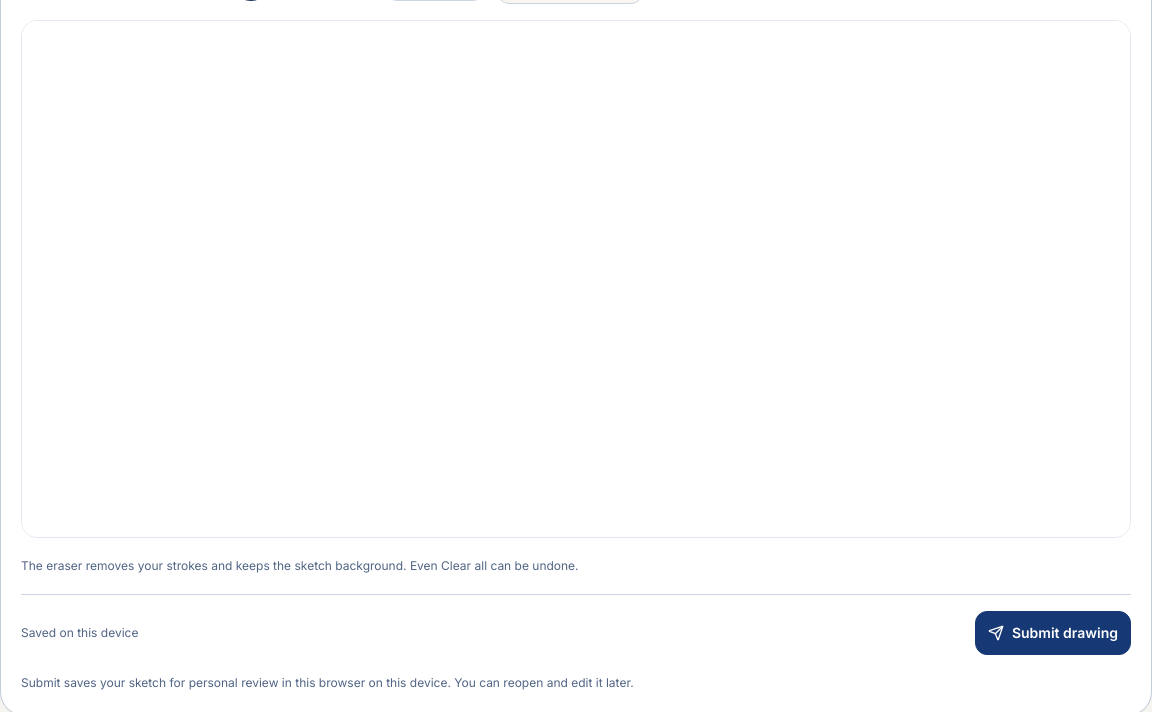
Scenario: sketch paper interaction › rejects a fully erased drawing and keeps a failed submission editable
Earlier steps of the test are not shown.
Later steps or results of the test are not shown.
(page scrolled)
Click the button "Submit drawing" at (1053, 633), box [975, 611, 1131, 655]
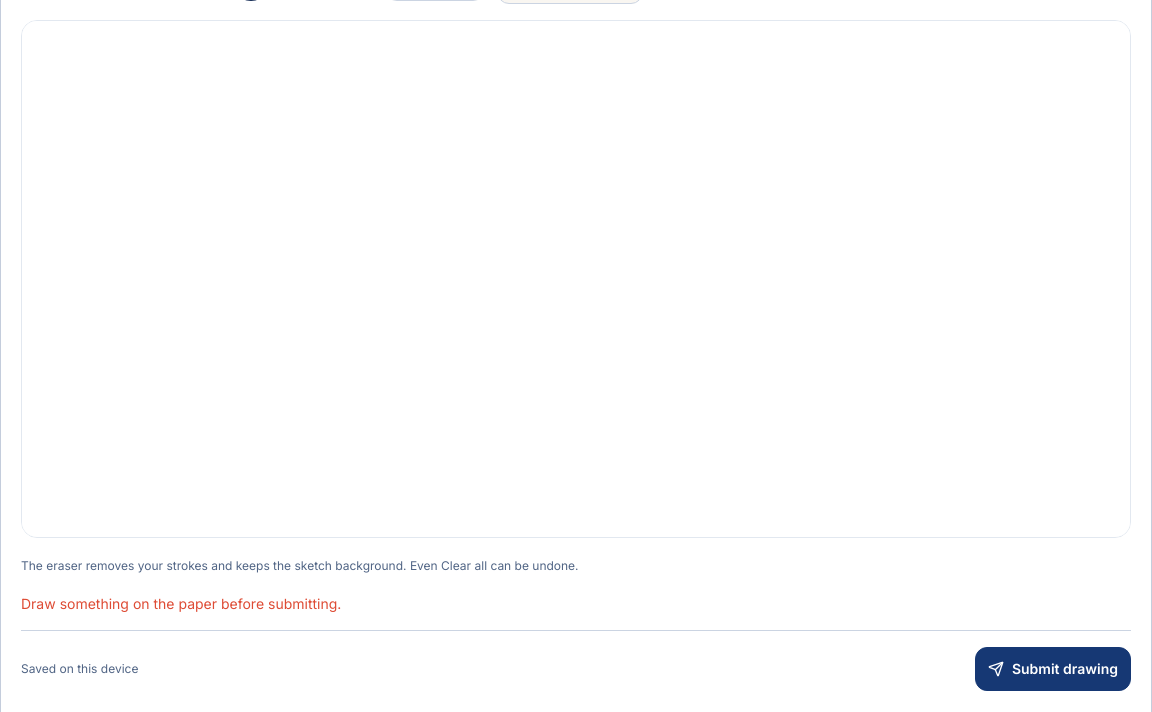
Check: the message "Draw something on the paper before submitting." is shown, box [21, 595, 341, 612]
